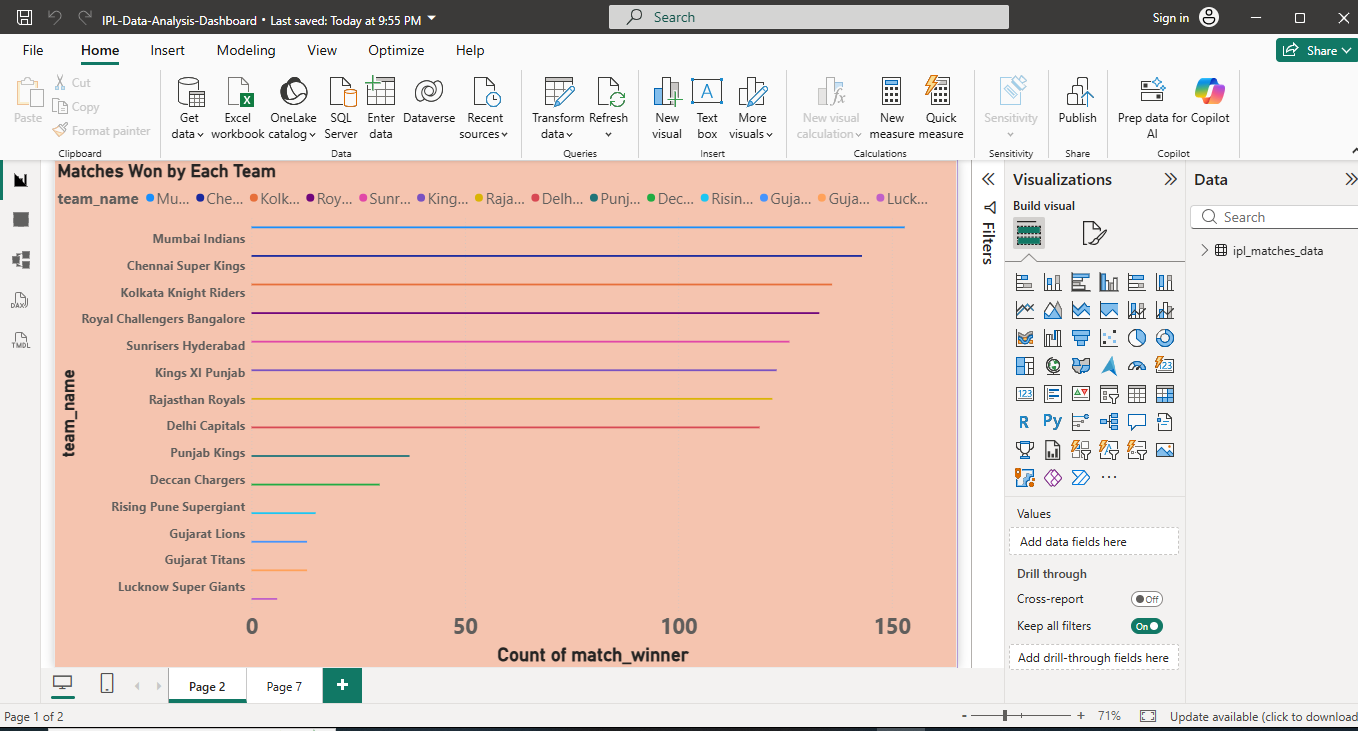

The page's visual inventory and layout, read from the dashboard file:
{"tool":"powerbi","page":{"name":"Page 2","canvas":[1280,720],"ordinal":0},"visuals":[{"type":"clusteredBarChart","title":"Matches Won by Each Team","fields":{"Category":["ipl_matches_data.team_name"],"Y":["Sum(ipl_matches_data.match_winner)"],"Series":["ipl_matches_data.team_name"]},"box":[0,0,1280,720],"z":0}]}

Visuals, with their boxes in screenshot pixels (x1, y1, x2, y2):
"Matches Won by Each Team" clusteredBarChart: {"x1": 0, "y1": 28, "x2": 1153, "y2": 725}
